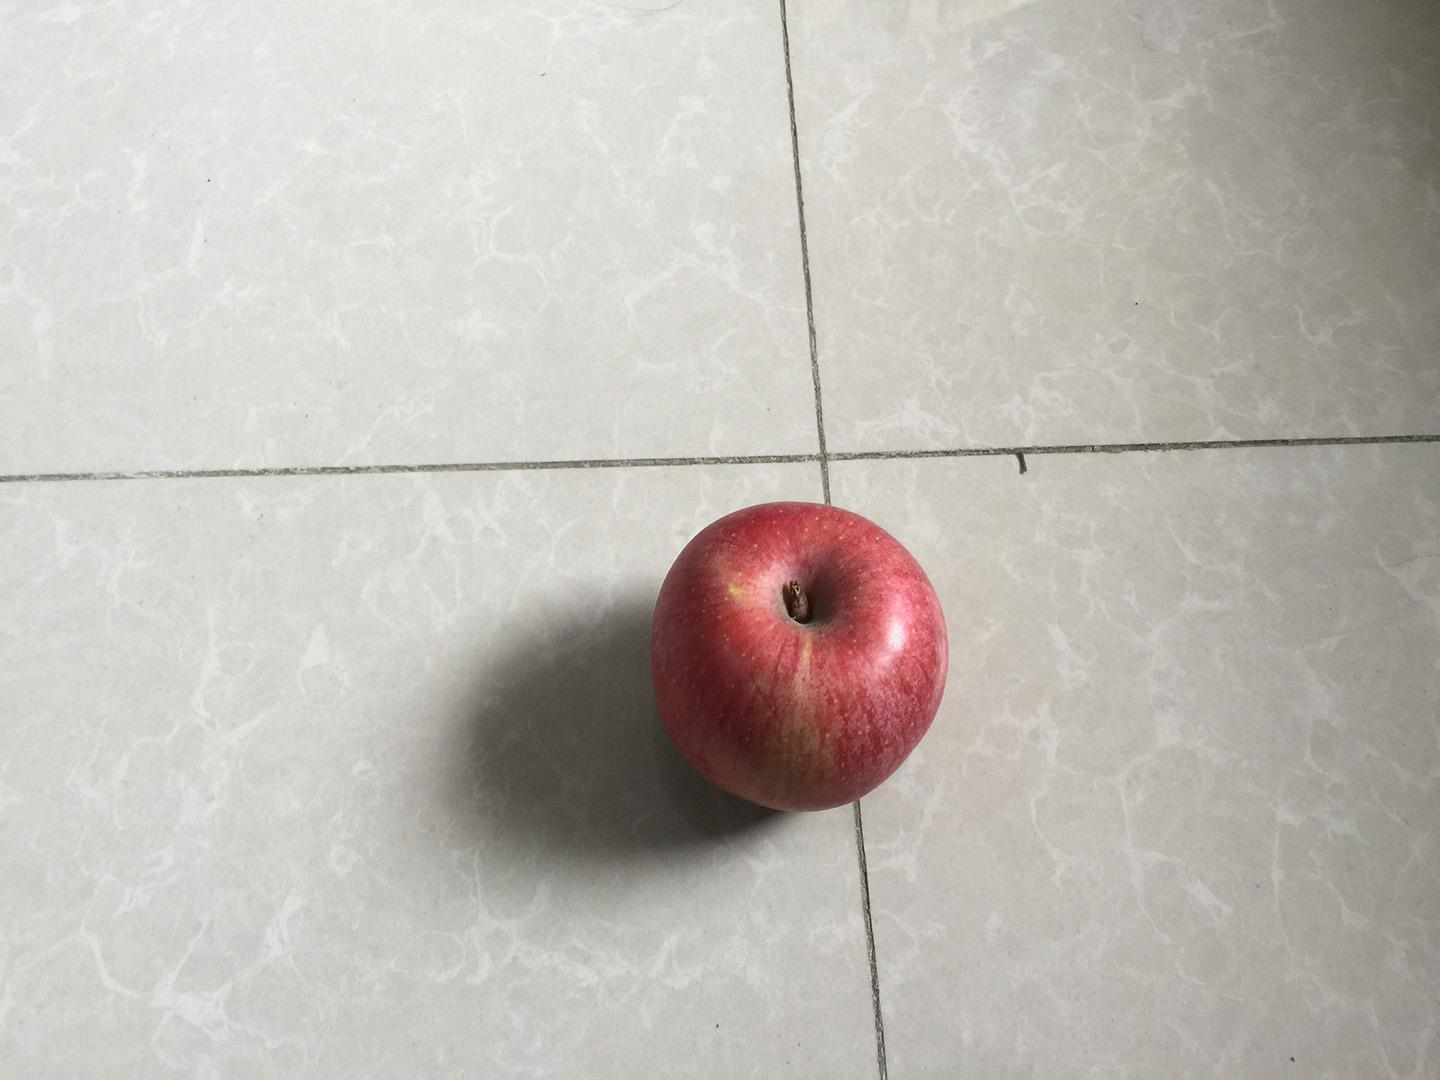apple: (645, 498, 954, 818)
